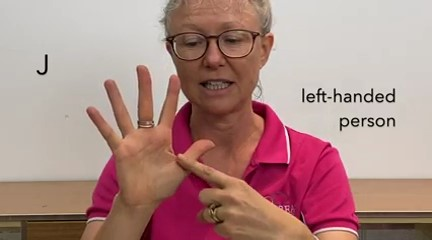J: (74, 54, 276, 237)
